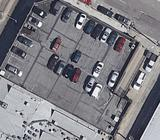parkingspot: (48, 2, 133, 56), (49, 38, 122, 88), (44, 53, 114, 104), (76, 0, 134, 28), (3, 34, 36, 78), (27, 8, 51, 31)
